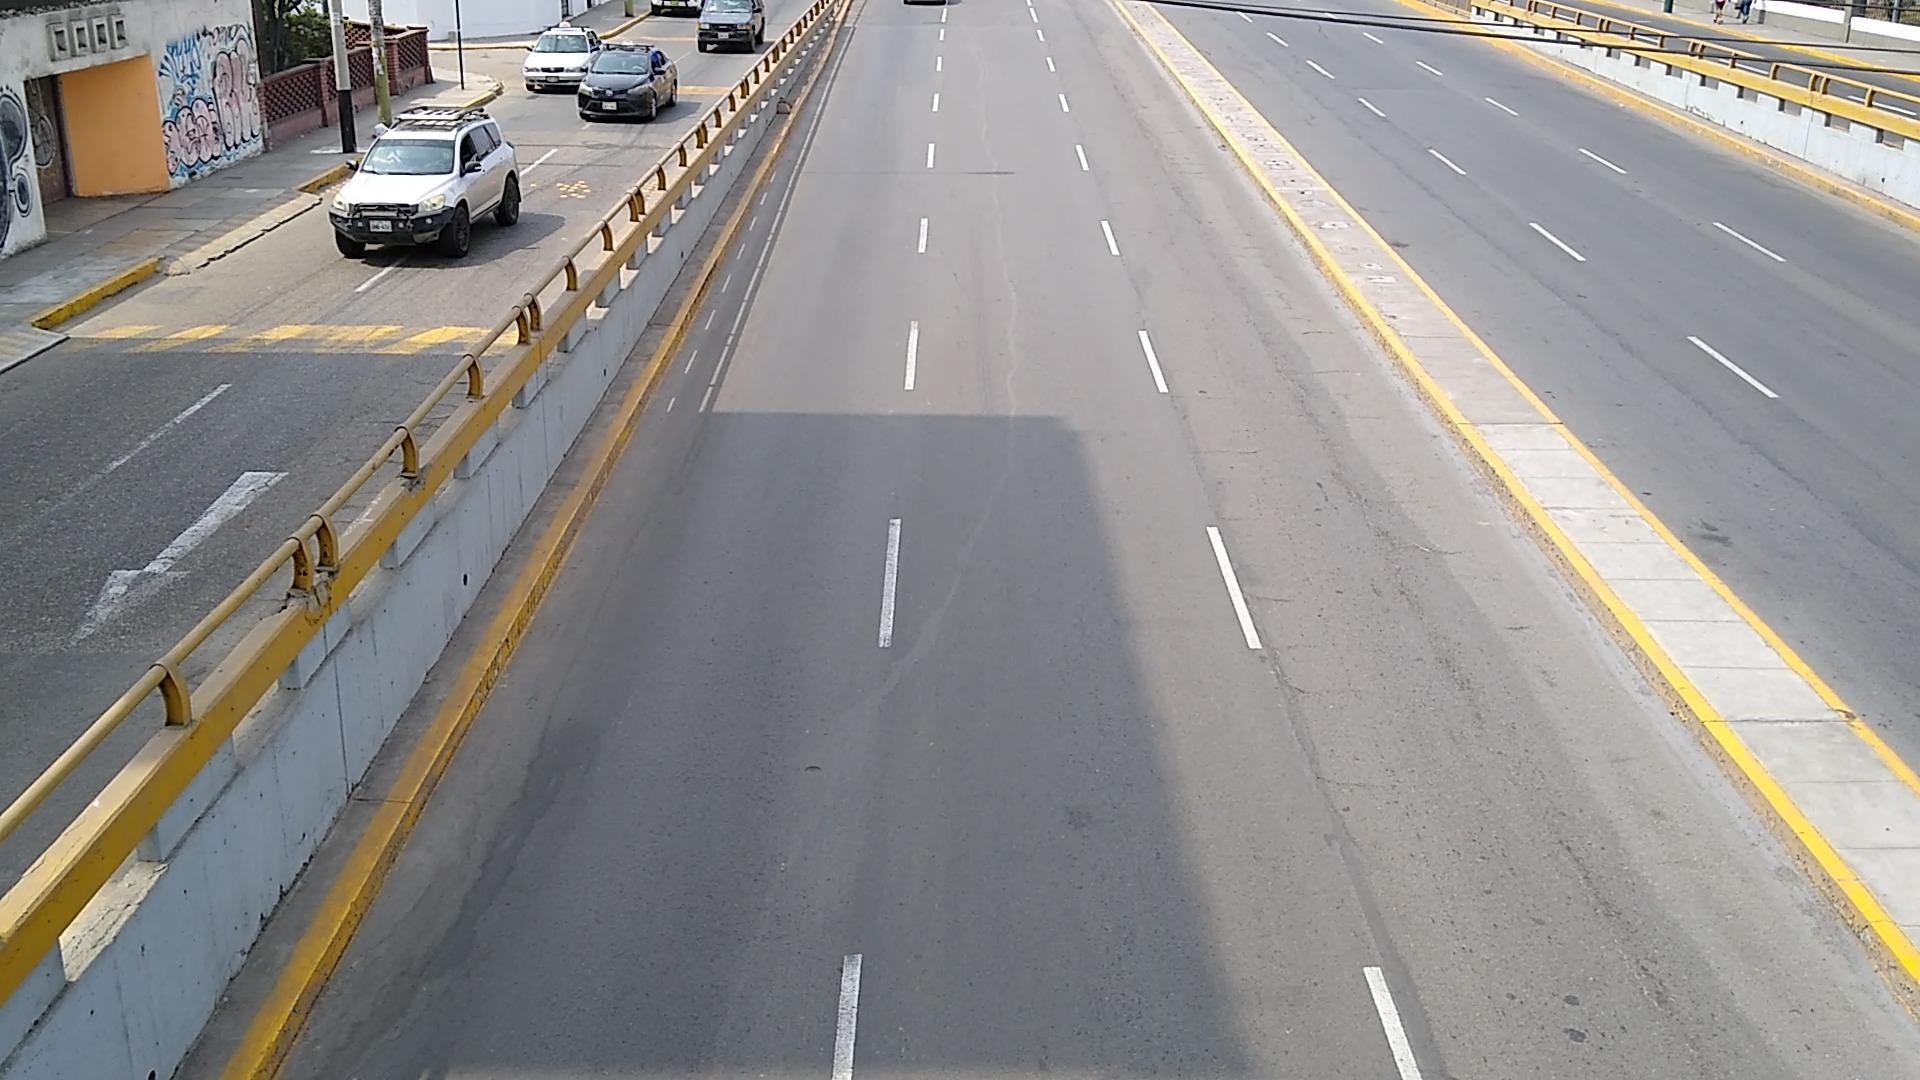car: (330, 108, 521, 257), (578, 45, 679, 119), (525, 26, 604, 94), (698, 0, 765, 53)
